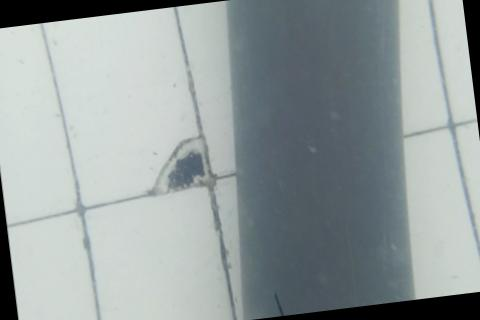keretakan: (273, 289, 284, 317)
